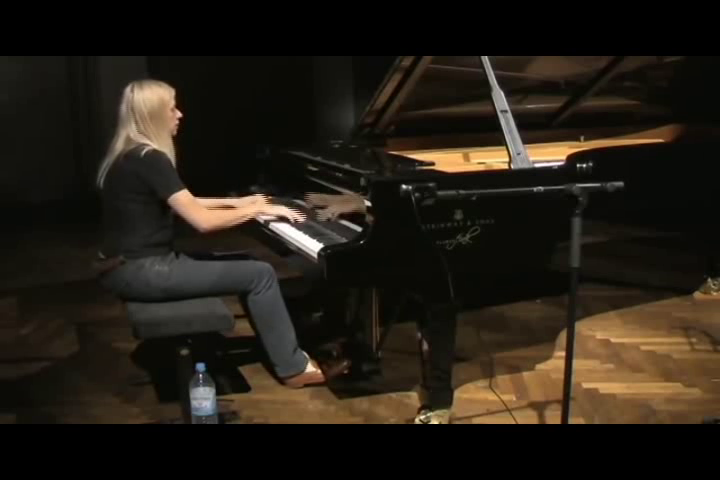keyboard: (220, 187, 351, 263)
